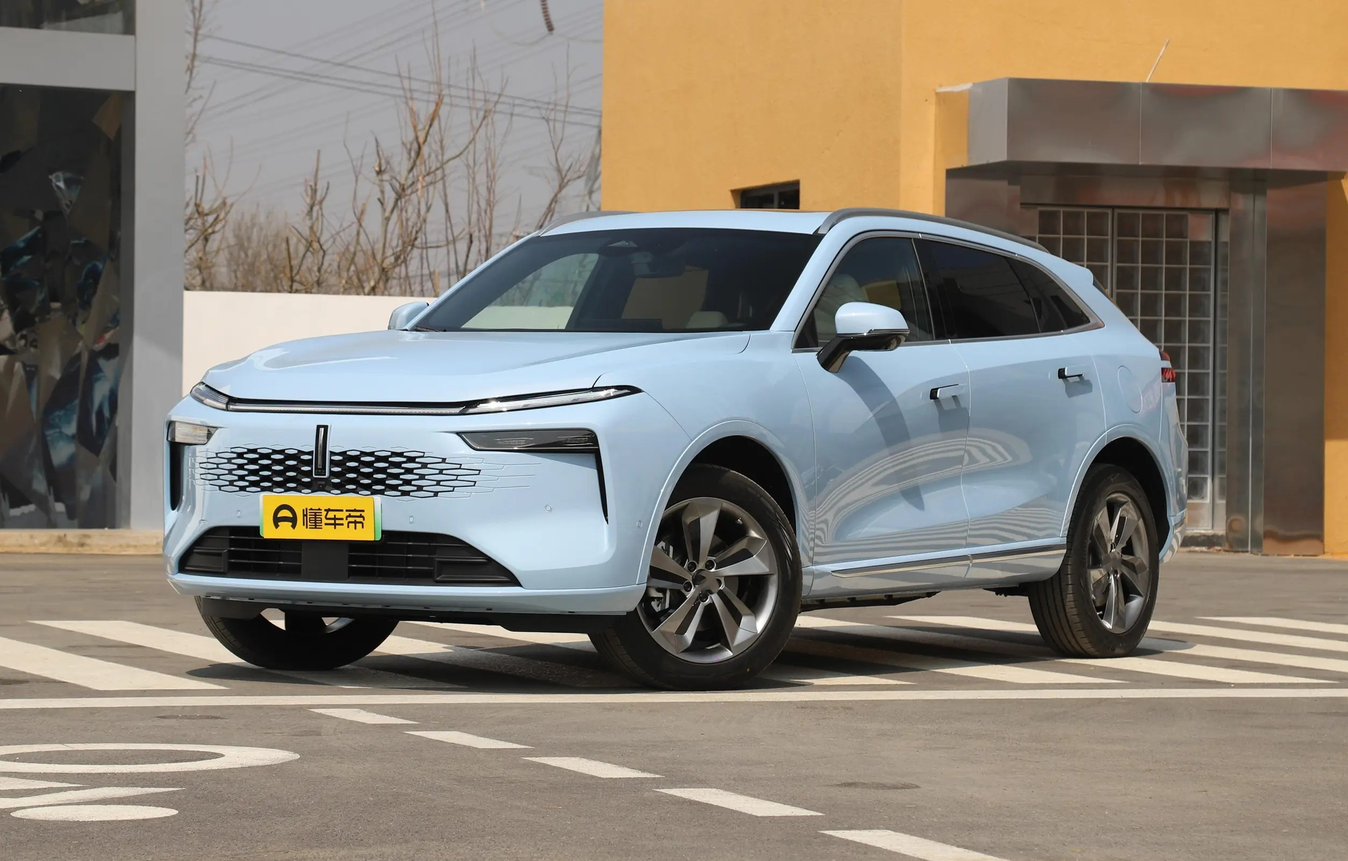WEY: (314, 425, 328, 476)
